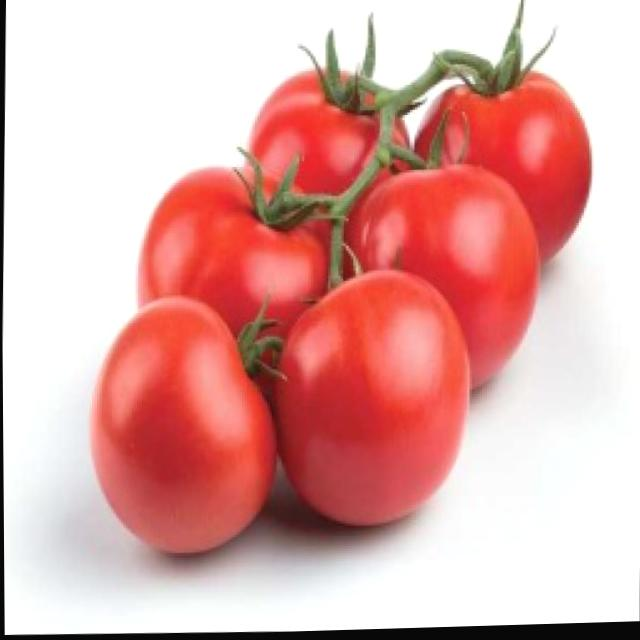tomato: (273, 273, 474, 534), (347, 154, 542, 398), (87, 304, 276, 555), (407, 73, 593, 268), (138, 164, 329, 337), (242, 46, 416, 230)
